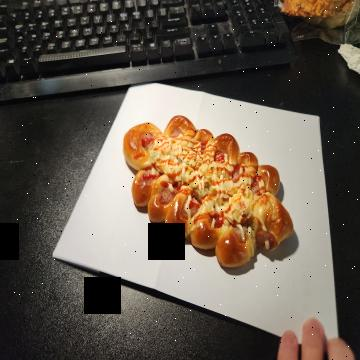pizza_bread: (124, 117, 297, 268)
